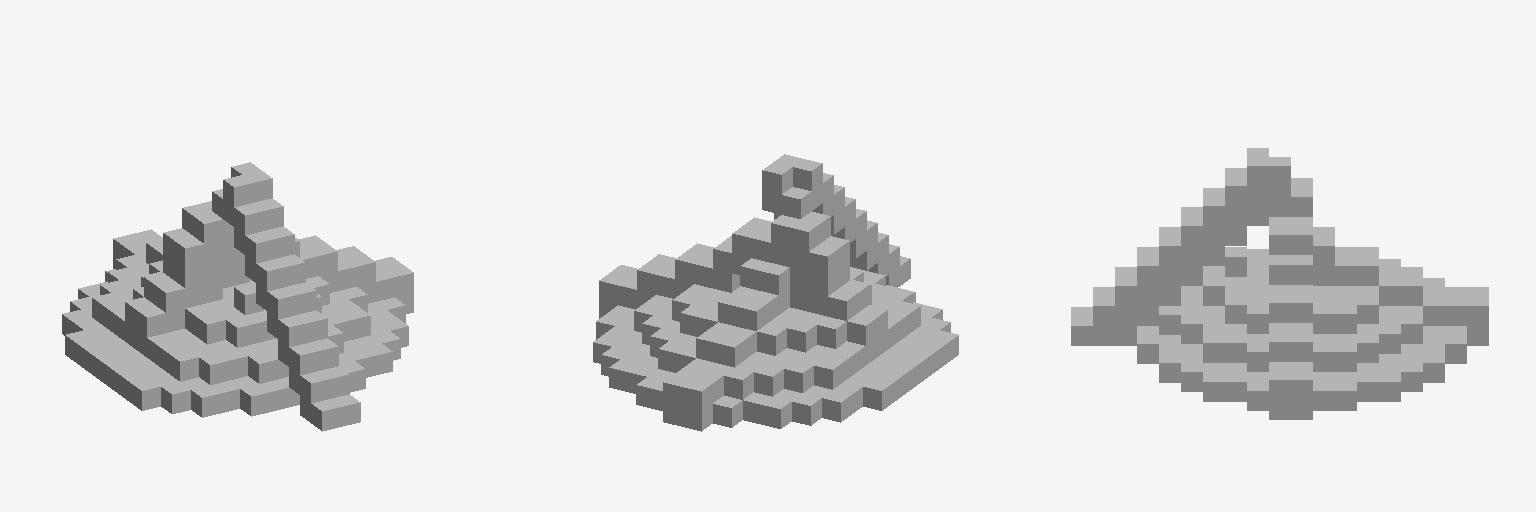
The model's file is Vcampfire.obj.
3 renders of one model, left to right at view 1: azimuth 30°, elevation 25°; view 2: azimuth 150°, elevation 25°; view 3: azimuth 270°, elevation 25°, orthographic.
Visible parts, largest first — view 1: Campfire; view 2: Campfire; view 3: Campfire.
Part boxes in pixels (bbox=[...]): Campfire: bbox=[62, 162, 413, 431]; Campfire: bbox=[593, 154, 958, 431]; Campfire: bbox=[1071, 148, 1488, 419].
Bounding box in the file's own units: 0.5764 × 0.3242 × 0.6844.